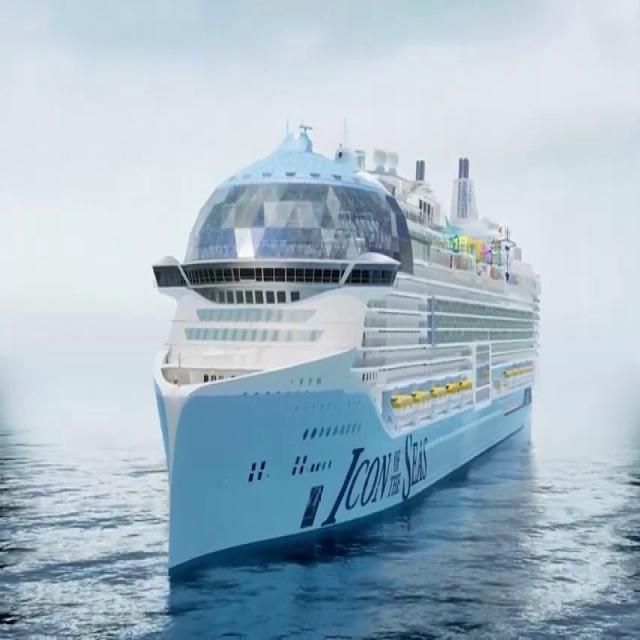passenger ship: (141, 116, 543, 571)
